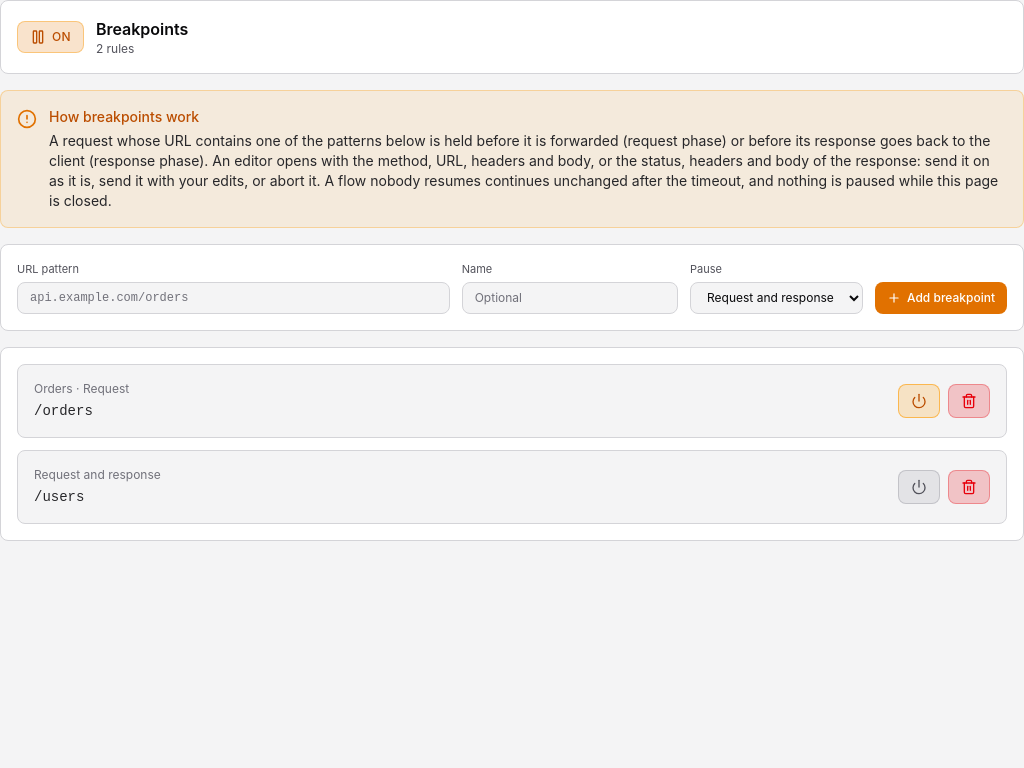
Scenario: Breakpoints tab › adds a rule from the form
The image size is (1024, 768).
Expected: the text "/orders" is shown, [34,402,93,418]
Type " /checkout " into the field labelled "URL pattern" at (233, 298), box [17,282,450,314]
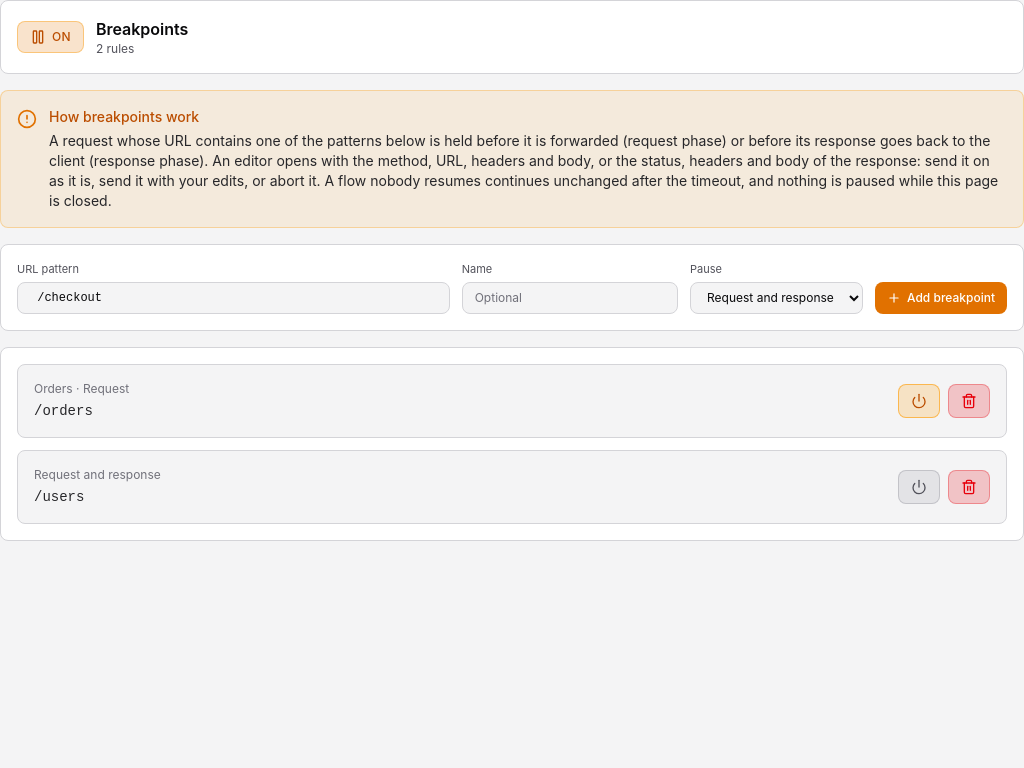
Type "Checkout" into the field labelled "Name" at (570, 298), box [462,282,678,314]
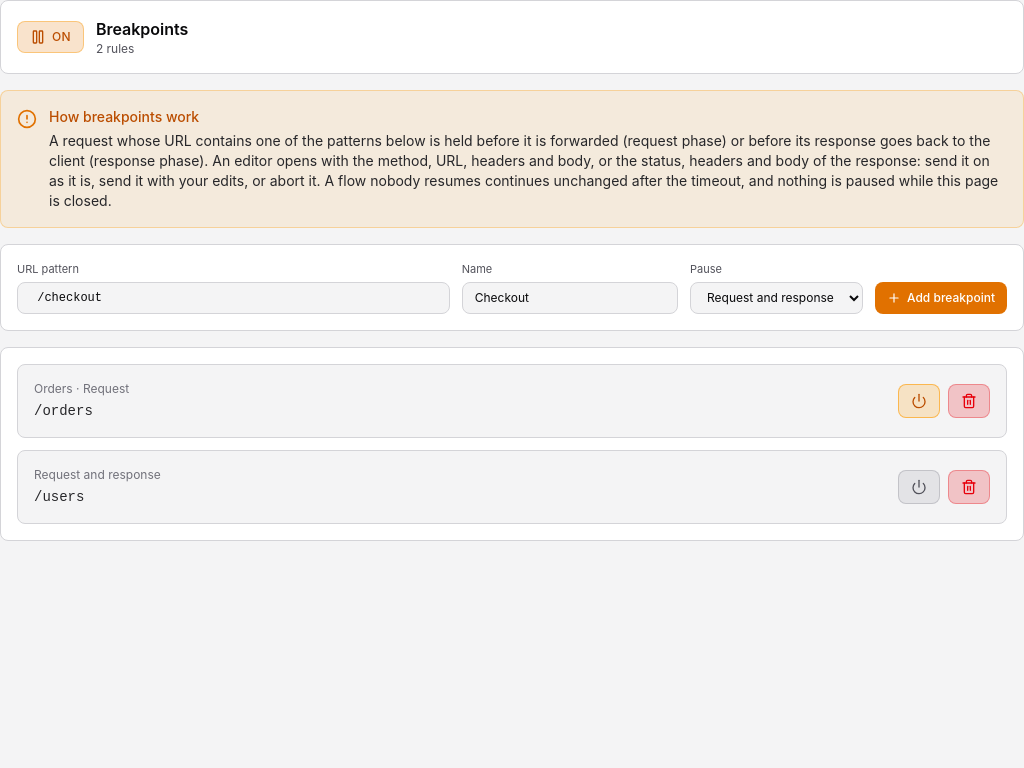
Select "Response" in the dropdown labelled "Pause" at (776, 298), box [690,282,863,314]
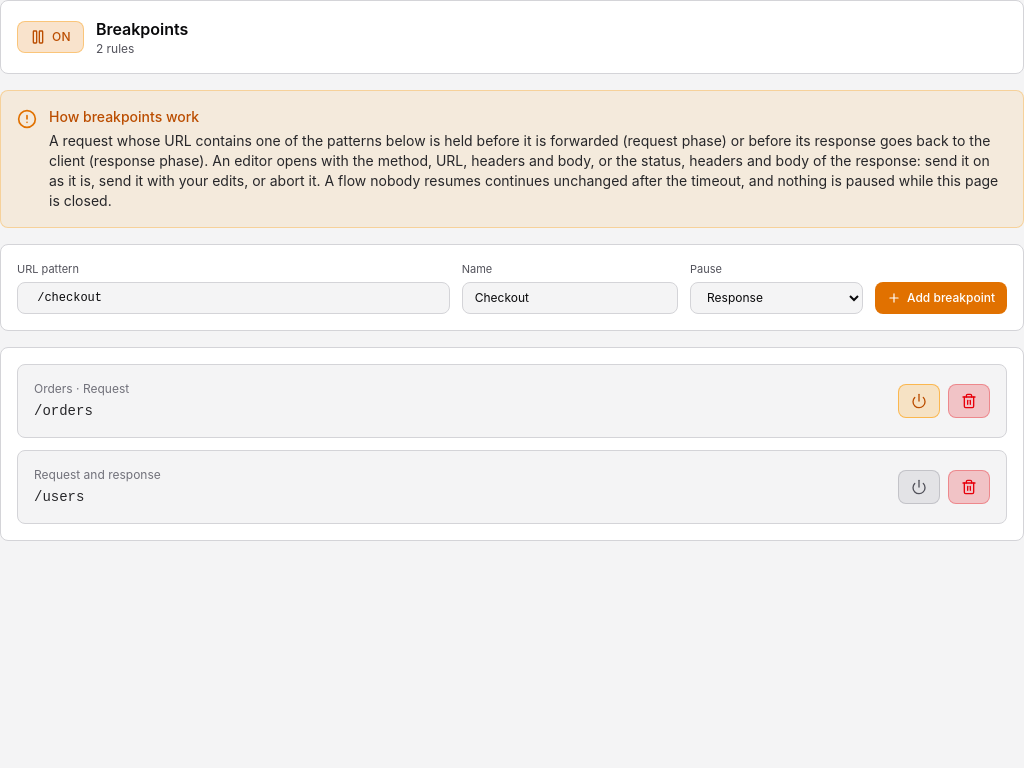
Click the button "Add breakpoint" at (941, 298), box [875,282,1007,314]
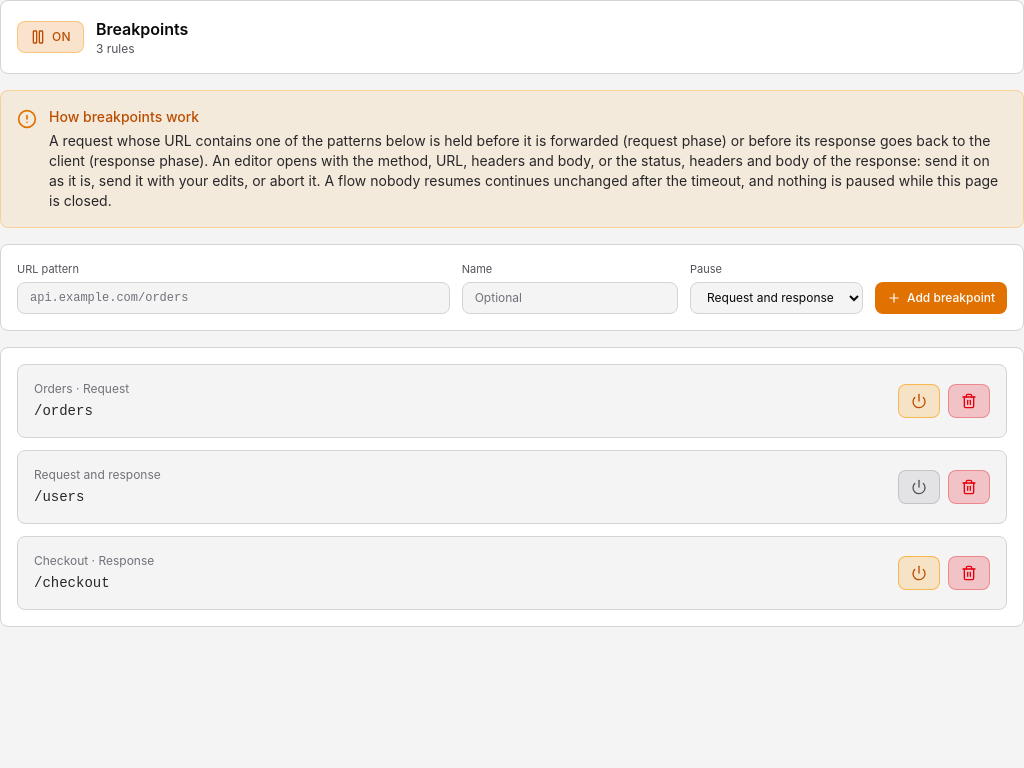
Expected: the text "/checkout" is shown, [34,574,110,590]
Expected: the field labelled "URL pattern" is empty, [17,282,450,314]
